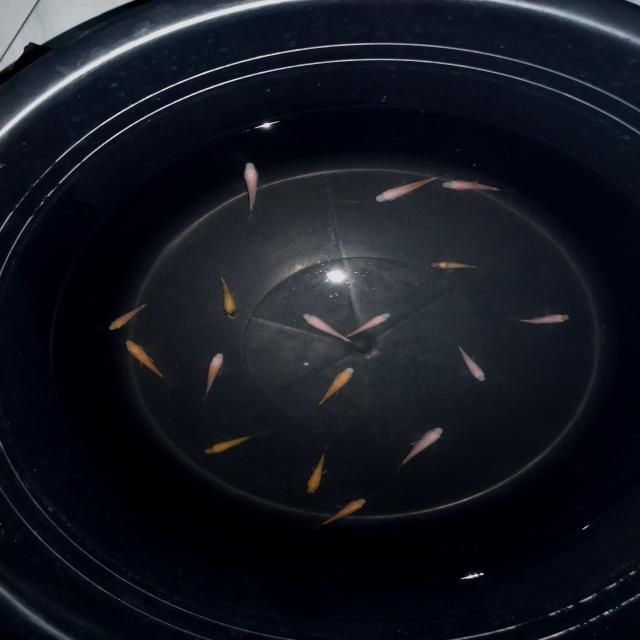nila: (362, 171, 451, 206), (292, 308, 366, 348), (388, 425, 446, 475), (204, 261, 249, 324), (118, 333, 168, 389), (311, 363, 363, 412), (194, 426, 269, 459), (102, 295, 160, 335), (308, 497, 368, 534), (430, 172, 516, 196), (450, 337, 490, 383), (194, 347, 228, 399), (342, 311, 398, 339), (238, 160, 262, 224), (300, 448, 330, 498), (496, 312, 574, 329), (420, 258, 488, 274)
